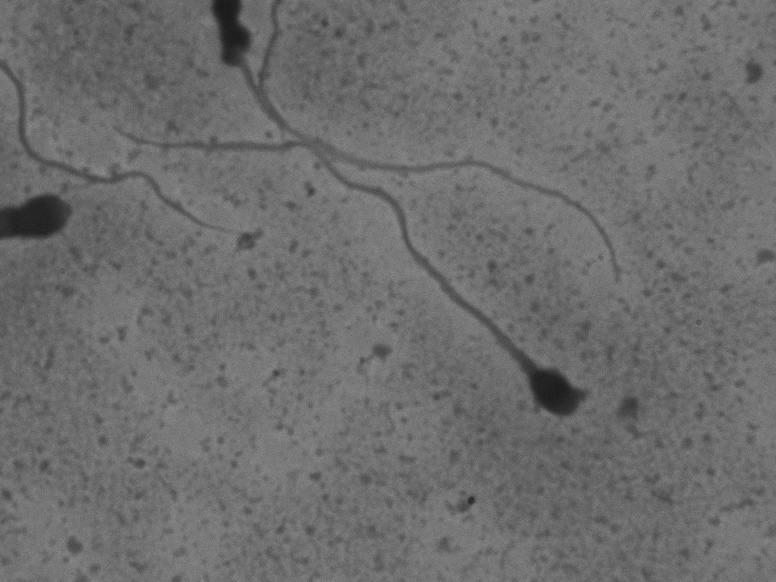Normal: (107, 116, 606, 432)
